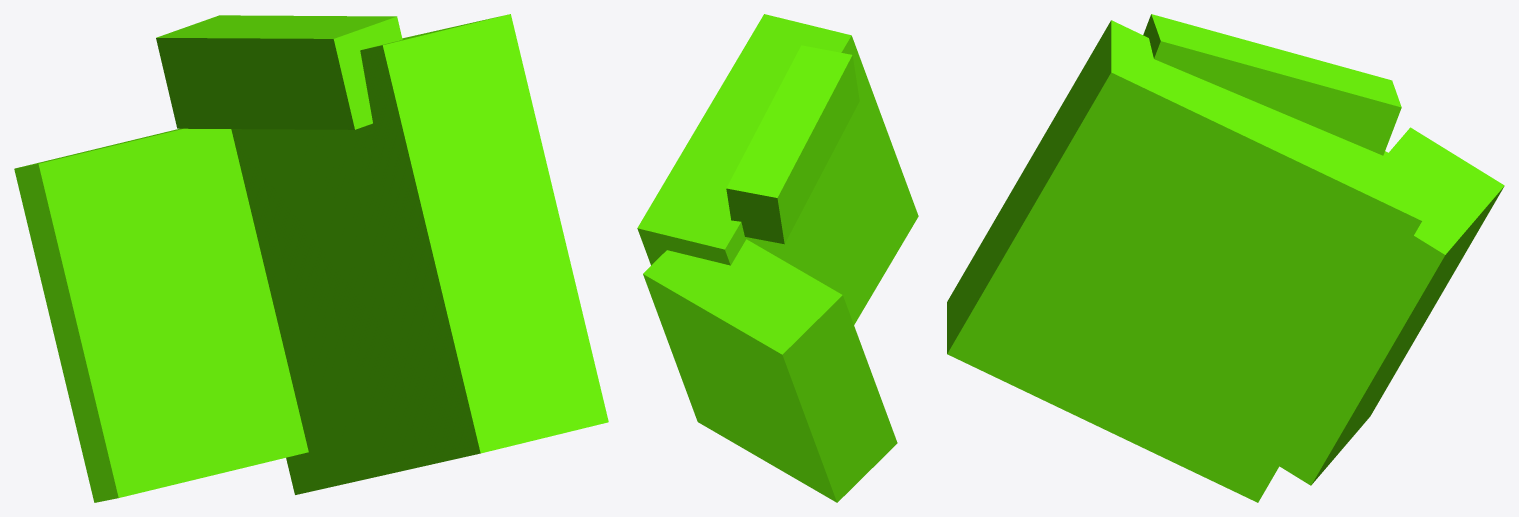
File: hand_r_closed.glb
The picture shows the model from 3 angles, left to right: view 1: azimuth 30°, elevation 25°; view 2: azimuth 150°, elevation 25°; view 3: azimuth 270°, elevation 25°; orthographic projection. The views are drawn at different scales.
Visible parts, largest first — view 1: Cube, Cube.002, Cube.001; view 2: Cube.002, Cube, Cube.001; view 3: Cube, Cube.002, Cube.001.
Part boxes in pixels (box(x1,y1,x2,y2)): Cube: box(231, 14, 608, 494); Cube.002: box(14, 128, 308, 502); Cube.001: box(156, 15, 402, 129); Cube.002: box(643, 239, 897, 502); Cube: box(637, 14, 918, 324); Cube.001: box(726, 45, 859, 244); Cube: box(947, 20, 1422, 502); Cube.002: box(1279, 127, 1504, 485); Cube.001: box(1143, 14, 1401, 155).
Bounding box in the file's own units: 1.62 × 2.83 × 3.17.
